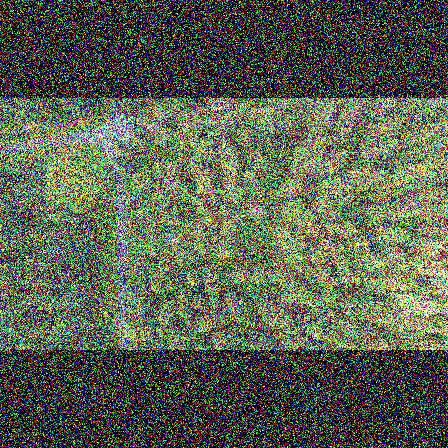Sick: (248, 201, 268, 220), (277, 222, 297, 241), (339, 298, 359, 317), (231, 208, 247, 225), (165, 234, 182, 250), (162, 176, 180, 190), (340, 175, 354, 192), (134, 207, 147, 220), (220, 203, 232, 216)
